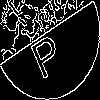P: (25, 25, 65, 81)
